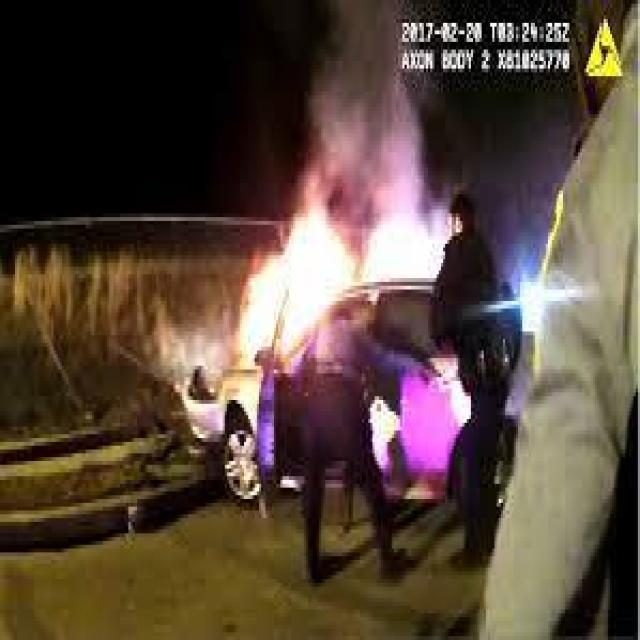fire: (219, 183, 458, 375)
